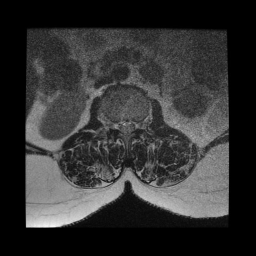CCS_normal: (124, 113, 130, 140)
LFS_normal: (137, 113, 144, 135)
LLS_normal: (130, 113, 137, 138)
RFS_normal: (111, 113, 117, 136)
RLS_normal: (117, 114, 124, 137)
